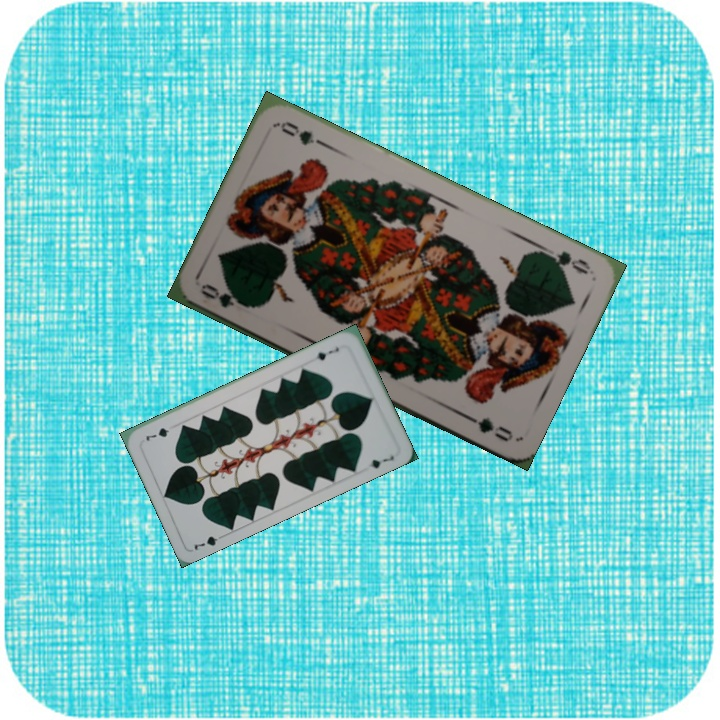G7: (190, 530, 228, 553), (312, 343, 342, 363)
GO: (538, 242, 593, 277), (197, 279, 255, 311)
